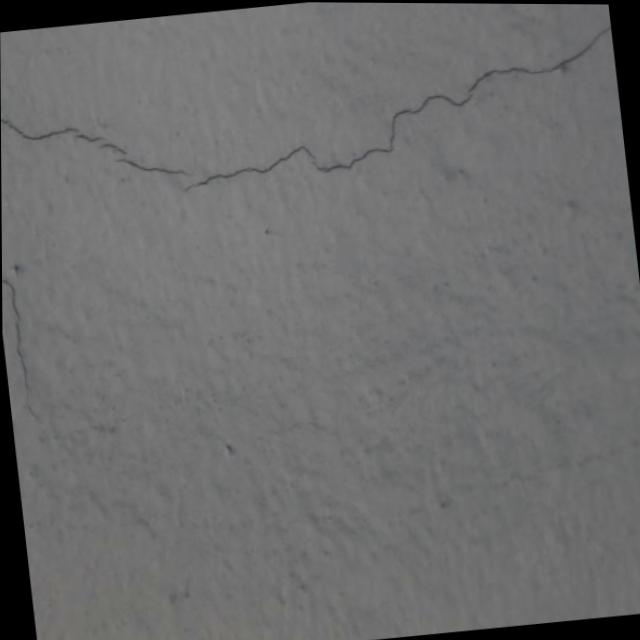Crack: (0, 0, 625, 221), (2, 268, 44, 437)
